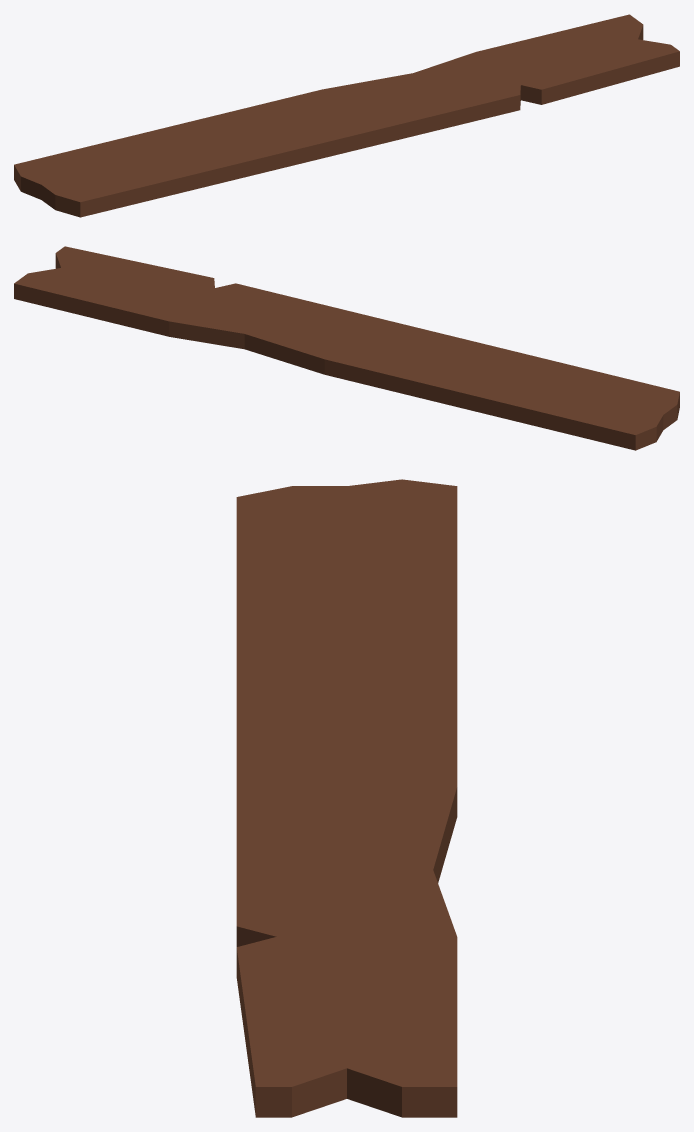
Rendered from Desk_03.fbx.
3 renders of one model, top to bottom at view 1: azimuth 30°, elevation 25°; view 2: azimuth 150°, elevation 25°; view 3: azimuth 270°, elevation 25°, orthographic. The views are drawn at different scales.
Parts seen in each view (by area): view 1: Desk_03; view 2: Desk_03; view 3: Desk_03.
Boxes of the visible parts, <box> form: Desk_03: <box>14,14,679,217</box>; Desk_03: <box>14,246,679,450</box>; Desk_03: <box>236,479,457,1117</box>.
Size of the model in its own units: 185 by 4.34 by 28.39.
